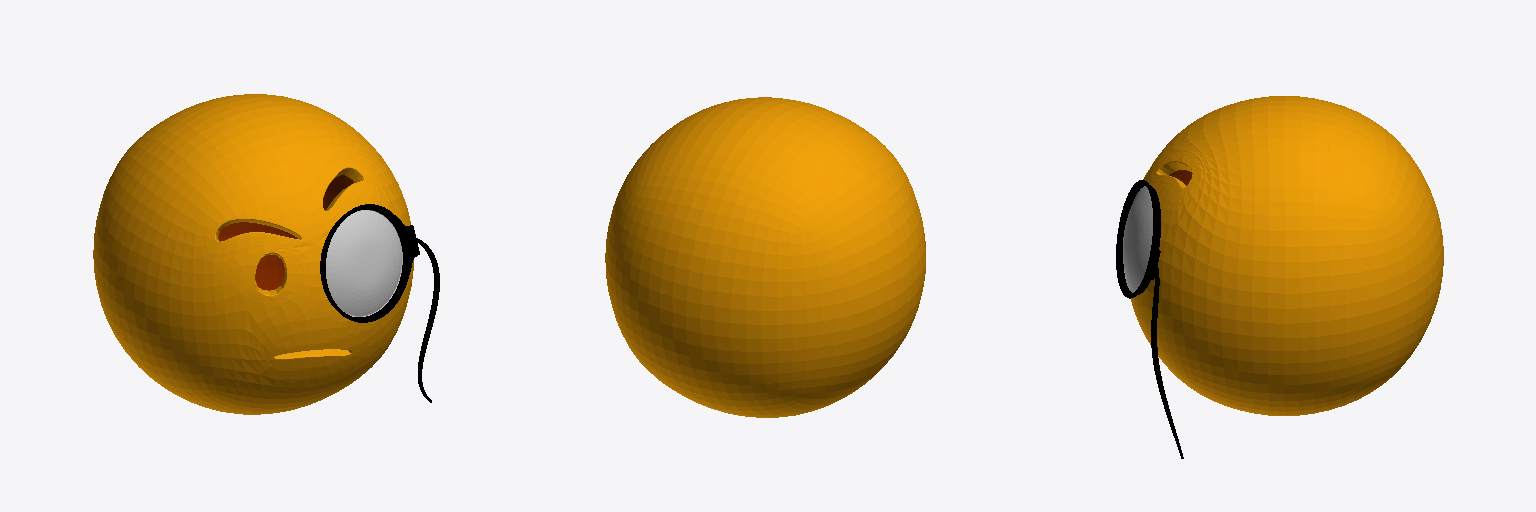
File: thought_face.obj
3 renders of one model, left to right at view 1: azimuth 30°, elevation 25°; view 2: azimuth 150°, elevation 25°; view 3: azimuth 270°, elevation 25°, orthographic.
Parts seen in each view (by area): view 1: BaseFace.008; view 2: BaseFace.008; view 3: BaseFace.008.
Boxes of the visible parts, x1=… form: BaseFace.008: x1=93, y1=94, x2=439, y2=414; BaseFace.008: x1=605, y1=97, x2=925, y2=417; BaseFace.008: x1=1116, y1=96, x2=1443, y2=458.
Bounding box in the file's own units: 0.5384 × 0.5384 × 0.5531.